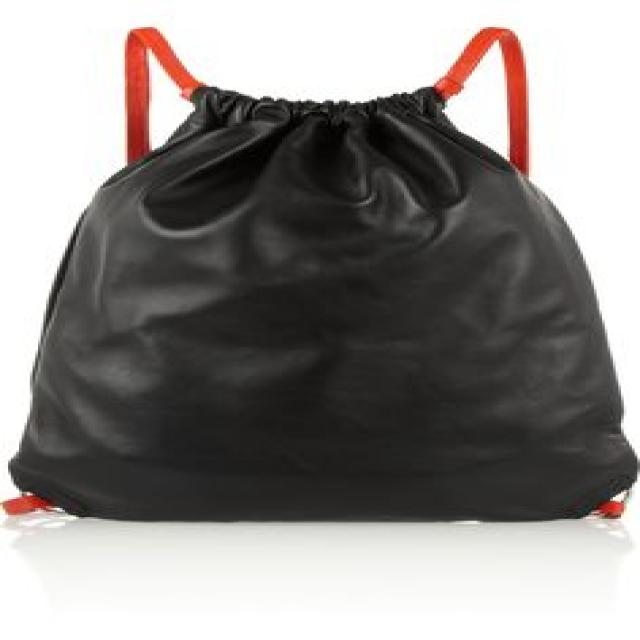backpack: (4, 25, 638, 524)
